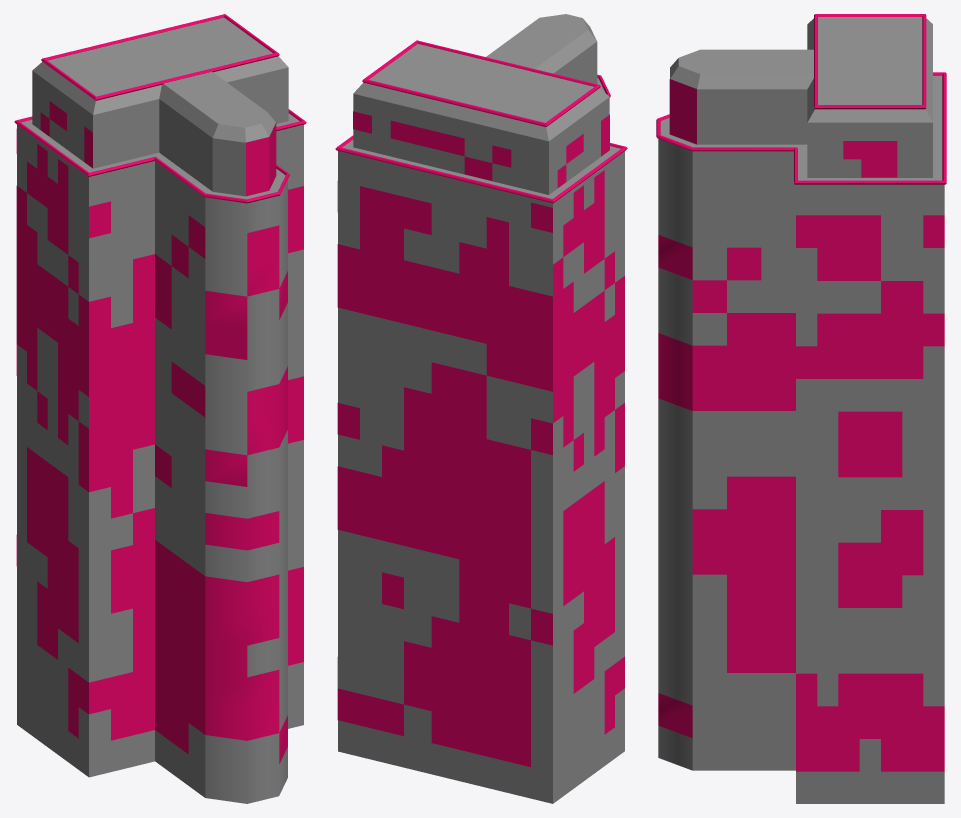
The model's file is obj_bbuilding004.FBX.
The picture shows the model from 3 angles, left to right: view 1: azimuth 30°, elevation 25°; view 2: azimuth 150°, elevation 25°; view 3: azimuth 270°, elevation 25°; orthographic projection. The views are drawn at different scales.
Visible parts, largest first — view 1: bbuilding004; view 2: bbuilding004; view 3: bbuilding004.
Boxes of the visible parts, bbox=[...] form: bbuilding004: bbox=[14, 14, 306, 803]; bbuilding004: bbox=[335, 14, 627, 803]; bbuilding004: bbox=[656, 14, 946, 803].
Bounding box in the file's own units: 6300 × 18439 × 7031.
